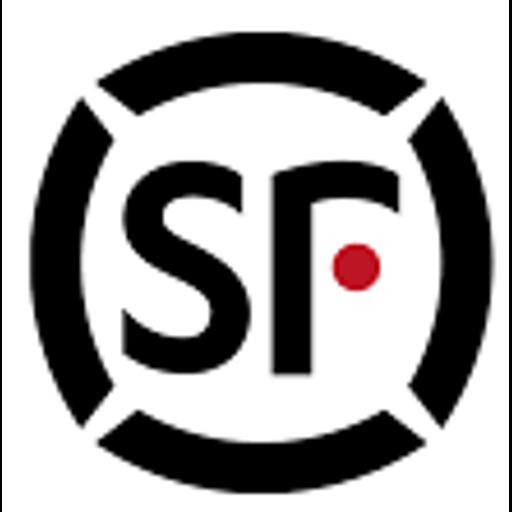SF Express Co: (2, 0, 509, 512)
